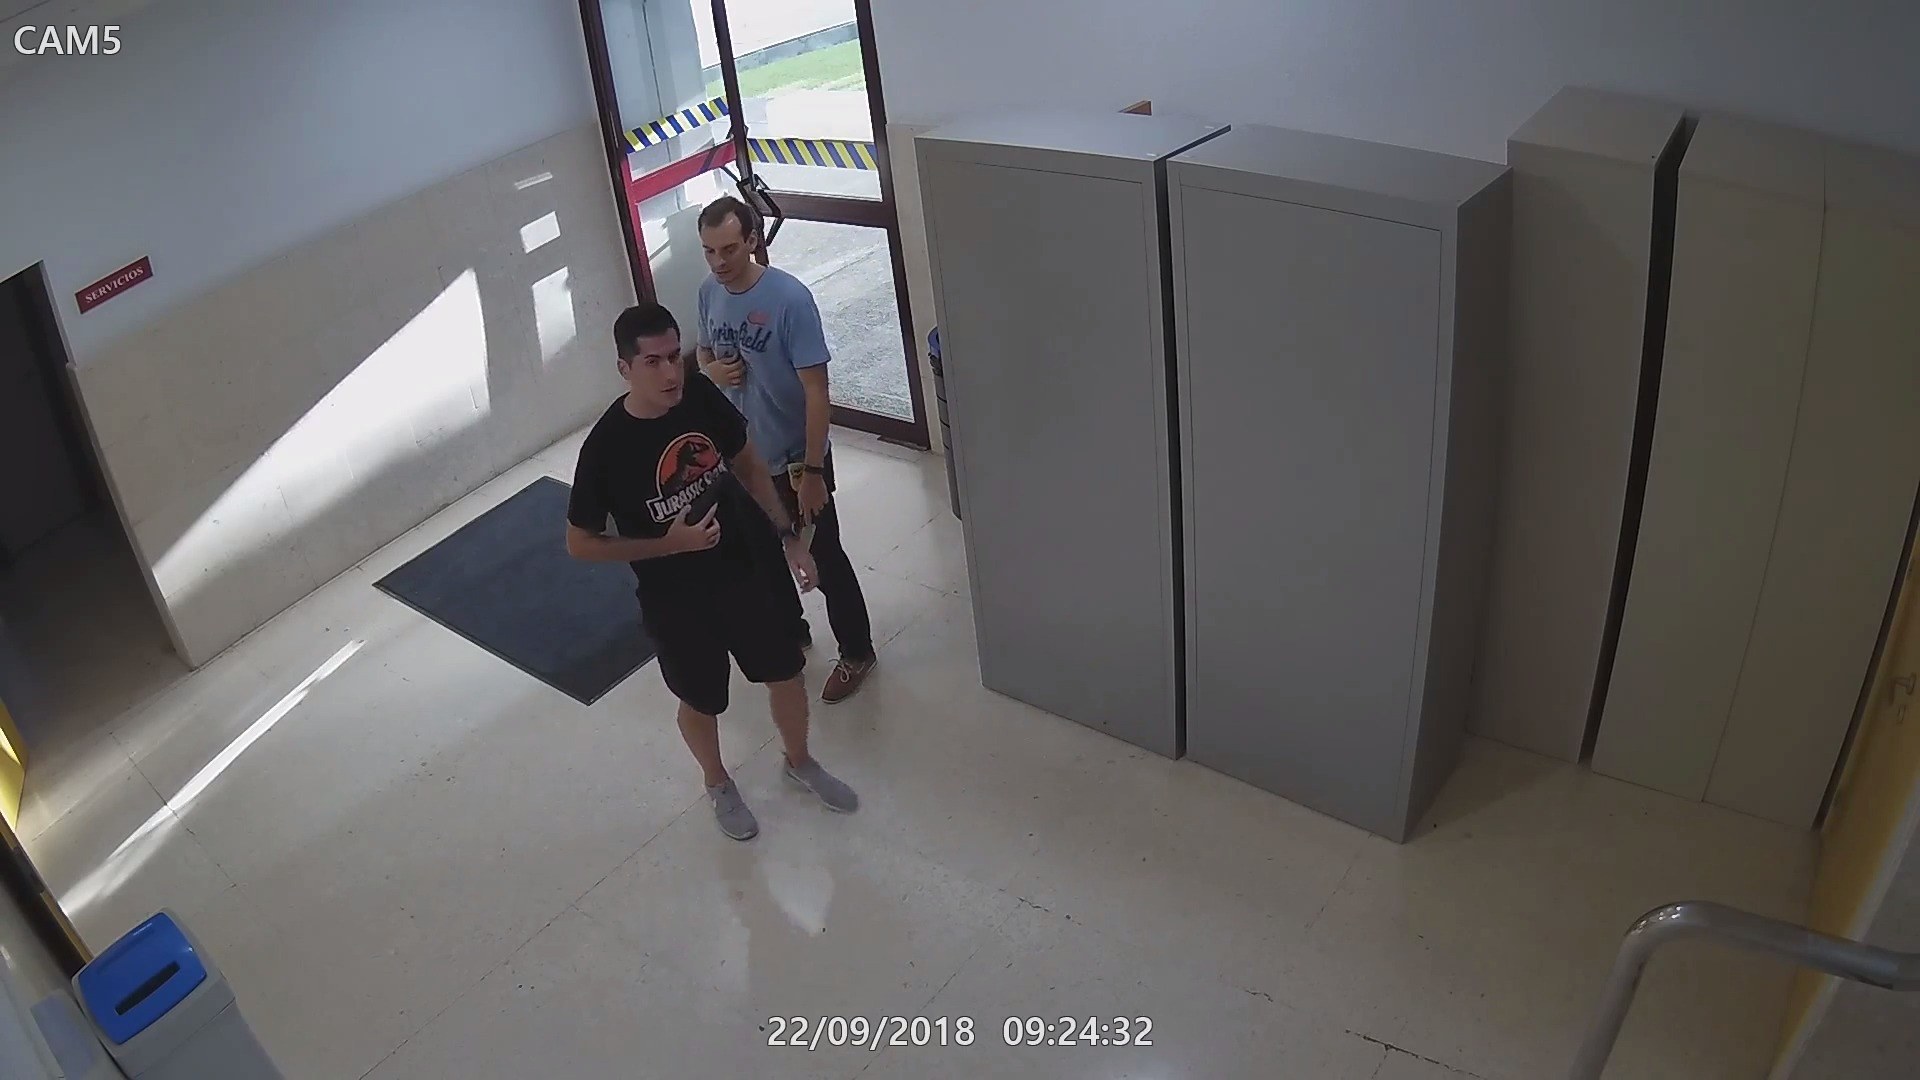Handgun: (671, 469, 737, 564)
Knife: (793, 479, 829, 582)
